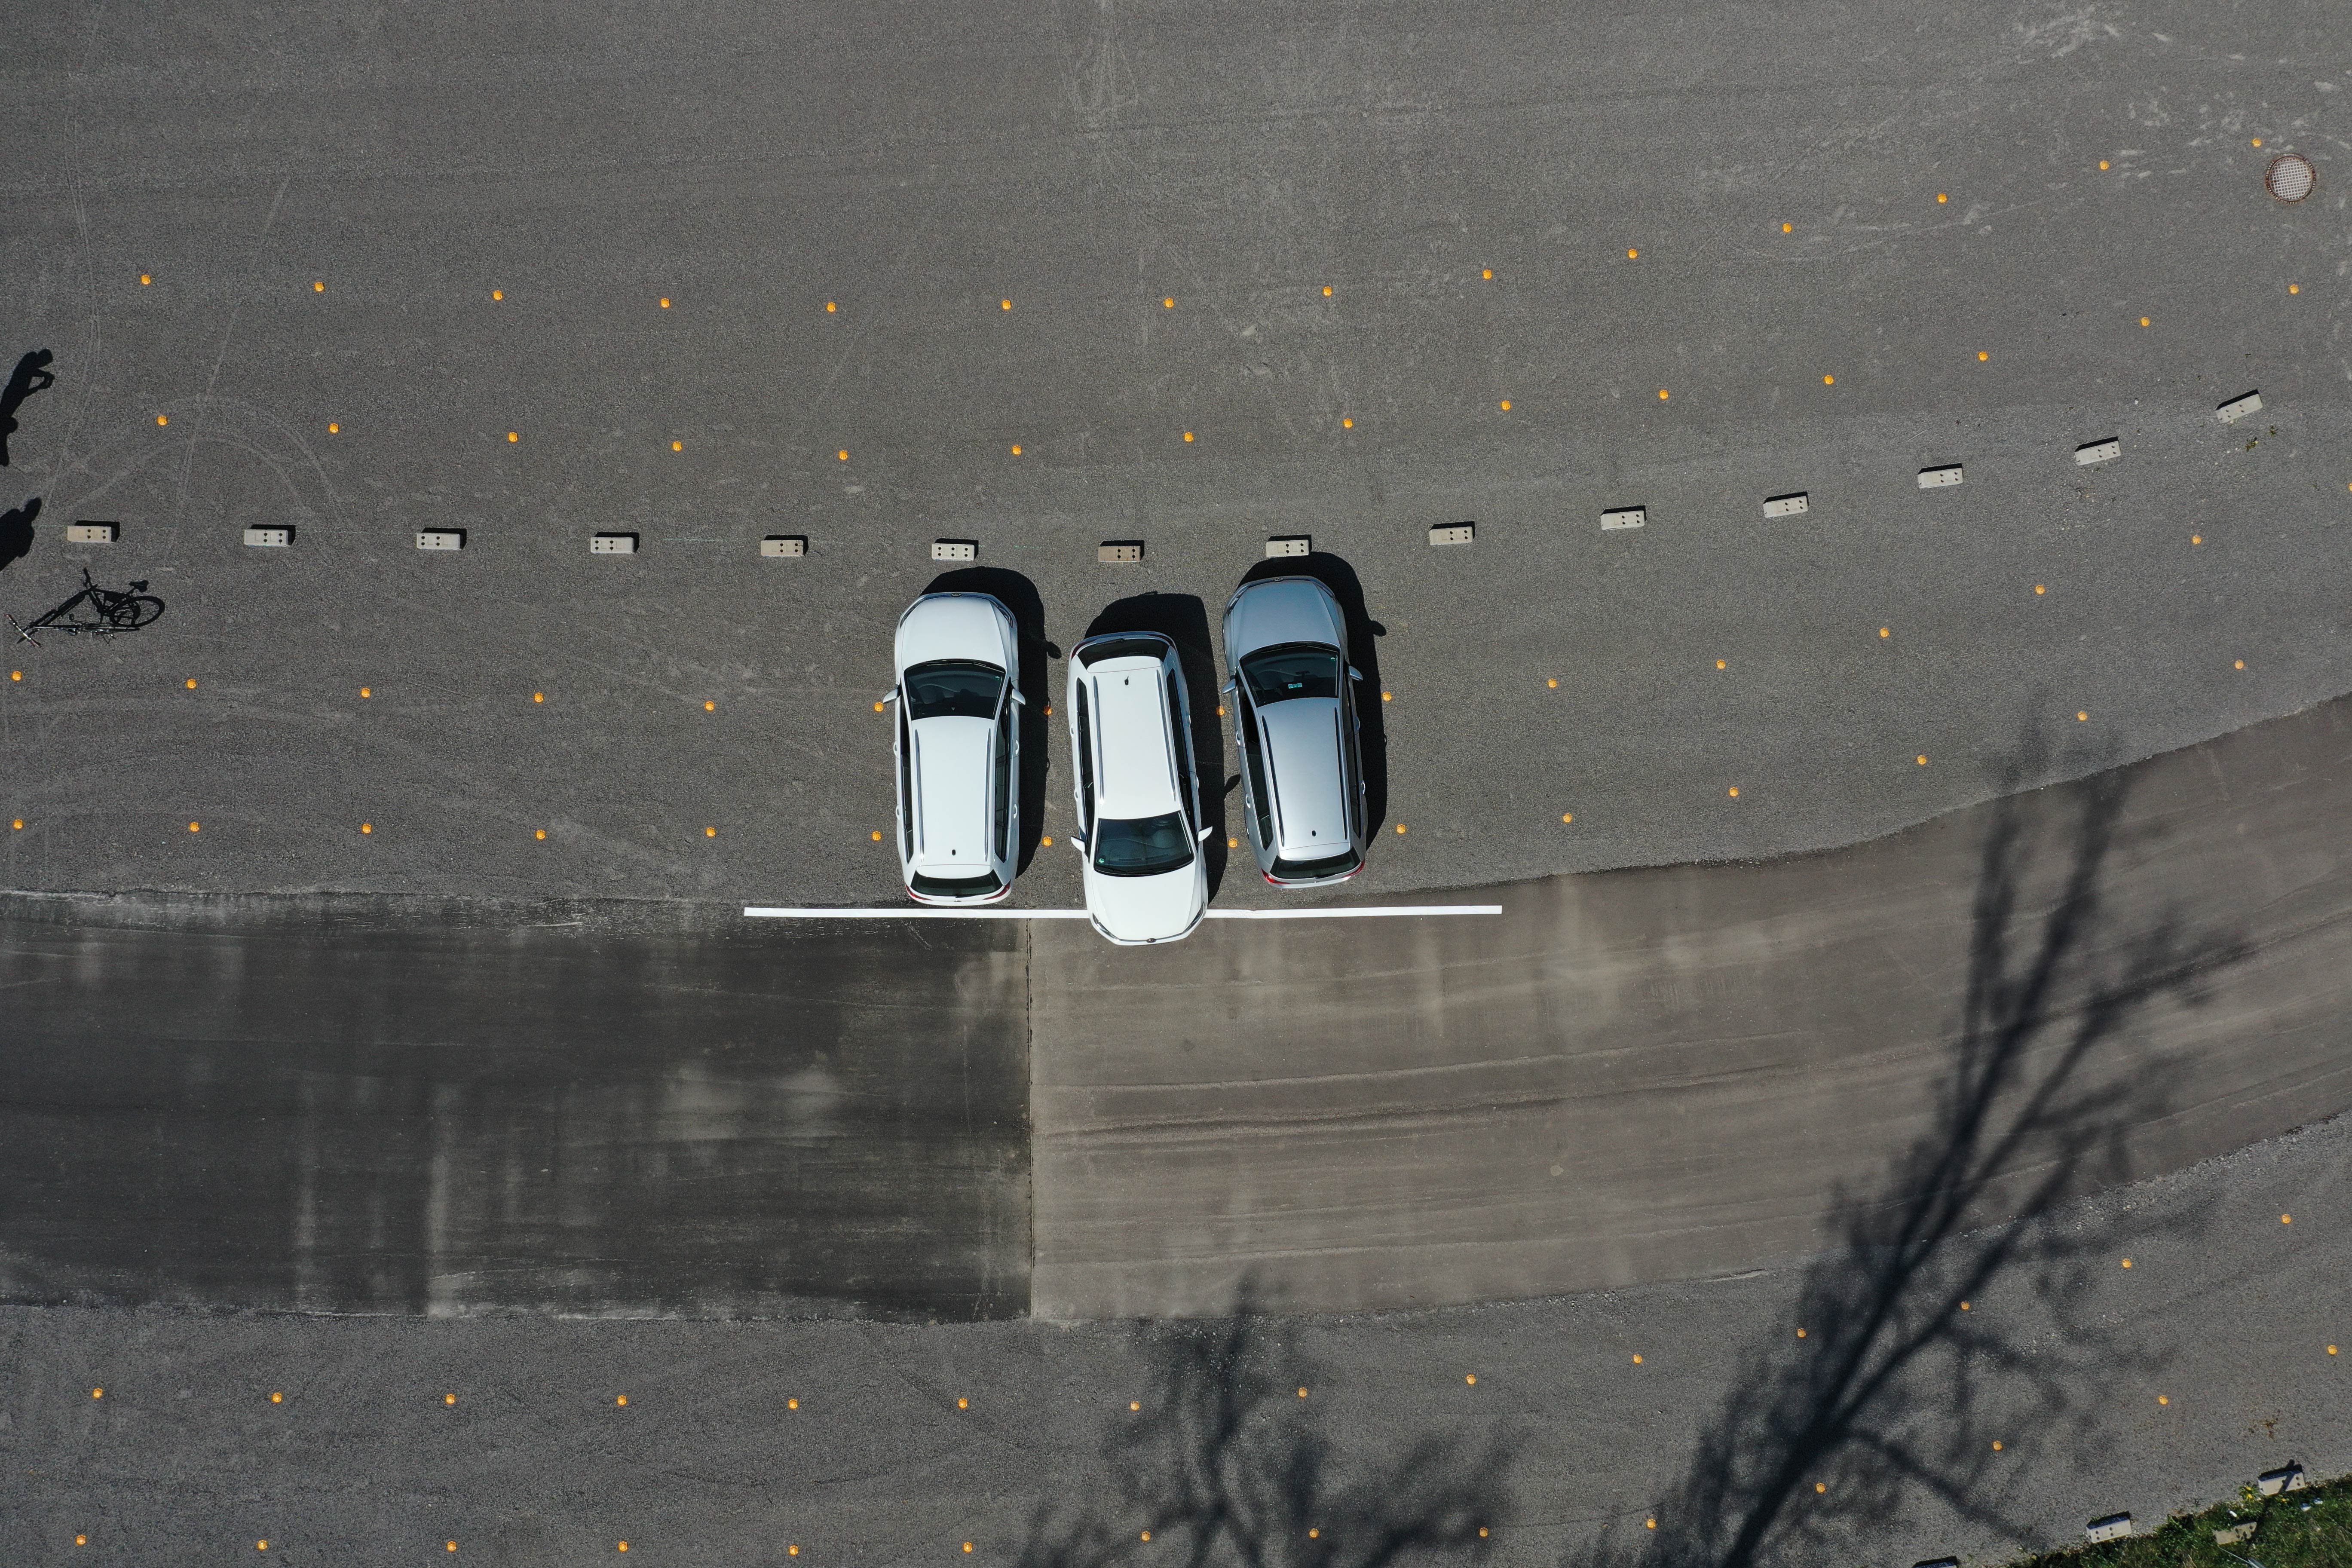Car: (1057, 626, 1220, 952), (1213, 570, 1372, 892), (884, 588, 1032, 912)
LaneMark: (1221, 901, 1512, 926), (738, 905, 1069, 924)
